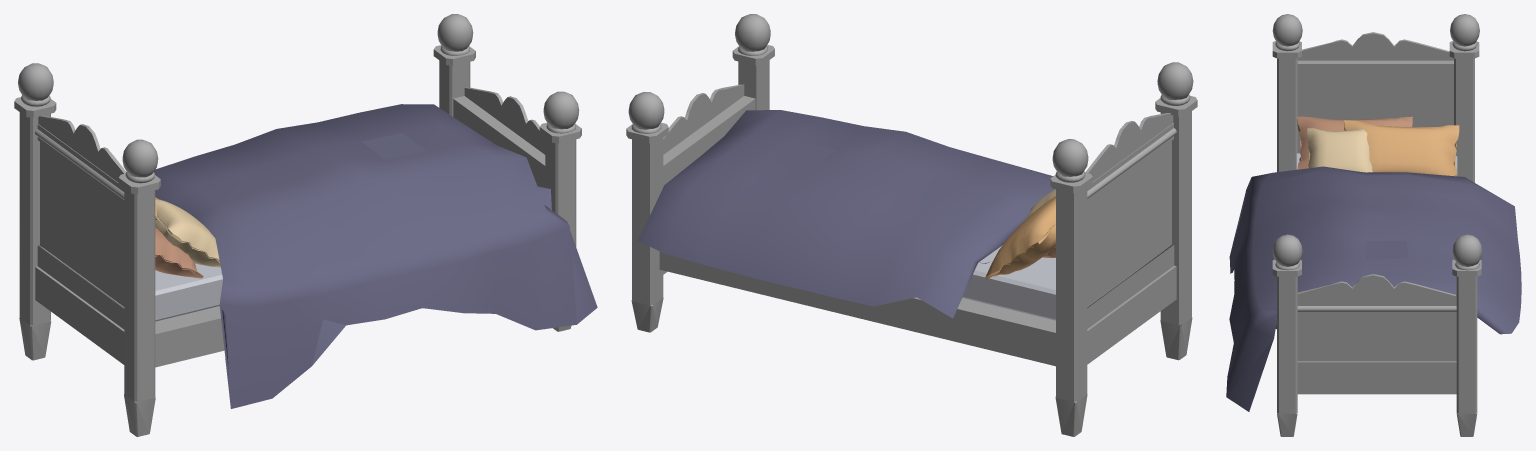
File: Enviro_Bed_001(1).fbx
3 views of the same model, side by side, from view 1: azimuth 30°, elevation 25°; view 2: azimuth 150°, elevation 25°; view 3: azimuth 270°, elevation 25° (orthographic). The views are drawn at different scales.
Parts seen in each view (by area): view 1: Blanket1; view 2: Blanket1; view 3: Blanket1.
Boxes of the visible parts, x1,y1,x2,y2 form: Blanket1: (14, 14, 597, 436); Blanket1: (626, 14, 1197, 436); Blanket1: (1226, 14, 1521, 436).
Bounding box in the file's own units: 7477 × 4601 × 4990.
